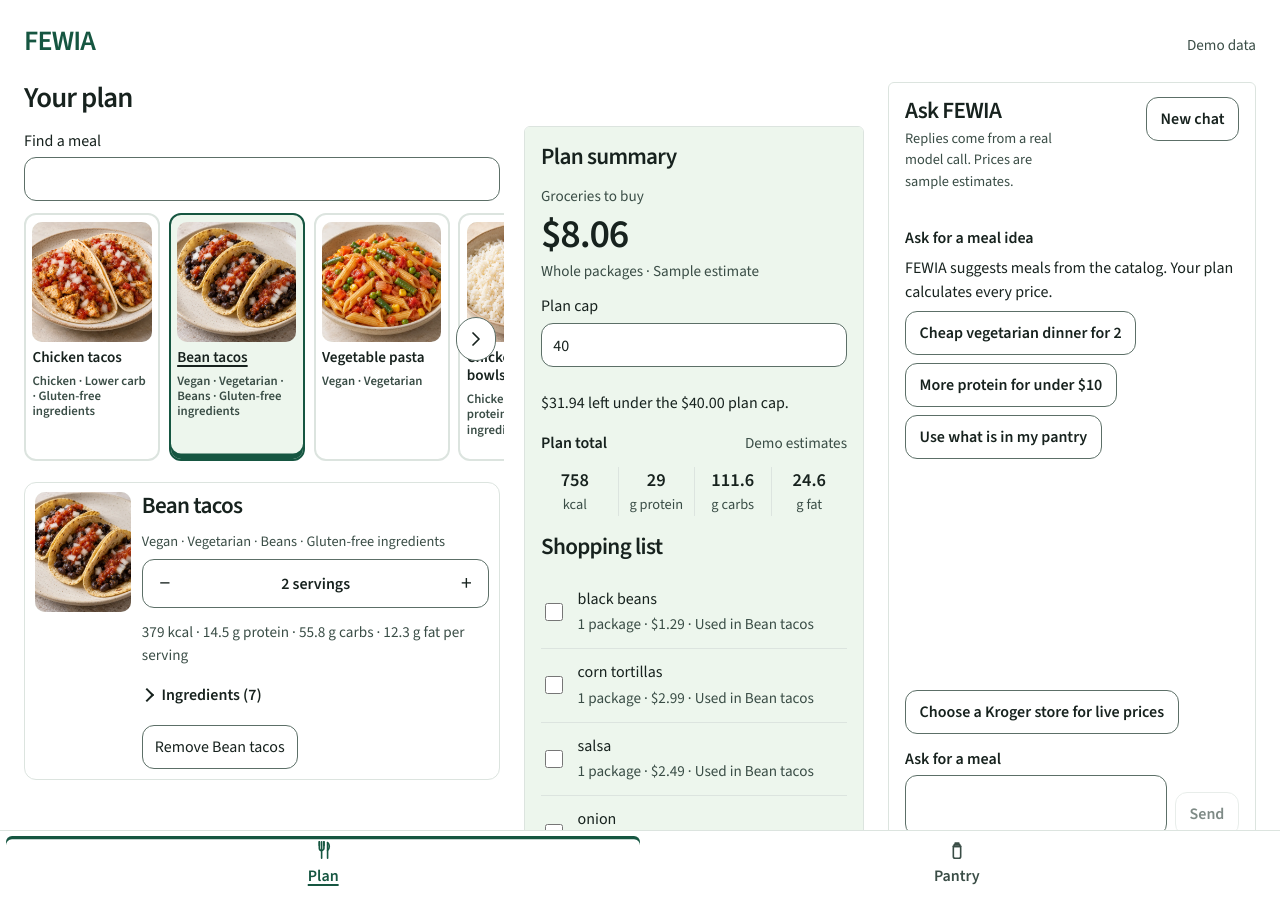
Test case: TonightPrototype › edits the plan cap without replacing the last valid budget
Replace the text in the field labelled "Plan cap" with "12.345". click: (694, 345)
box: [541,323,847,367]
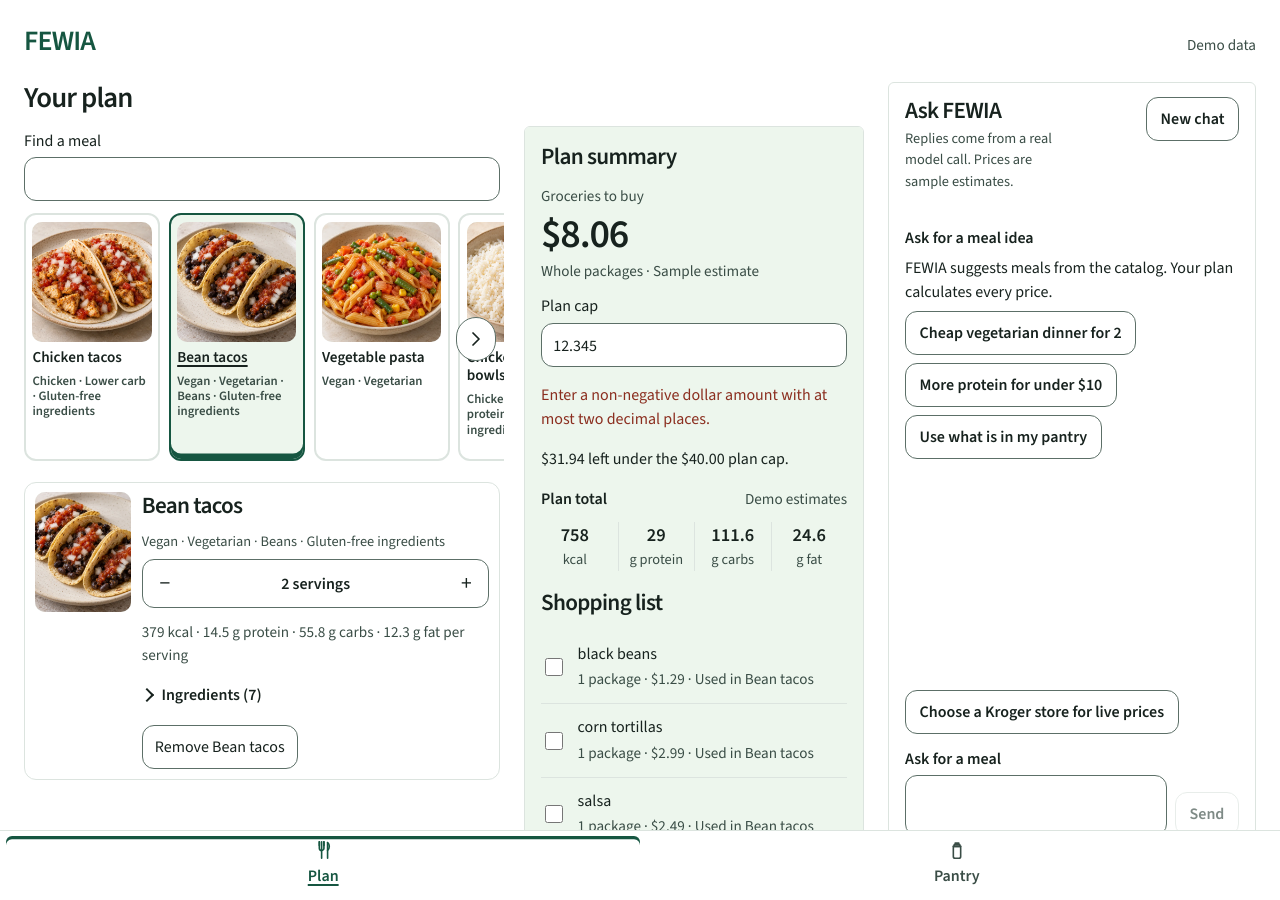
Expected: the element "Plan summary" shows "$31.94 left under the $40.00 plan cap.", [541,448,789,468]
Replace the text in the field labelled "Plan cap" with "0". click: (694, 345)
box: [541,323,847,367]
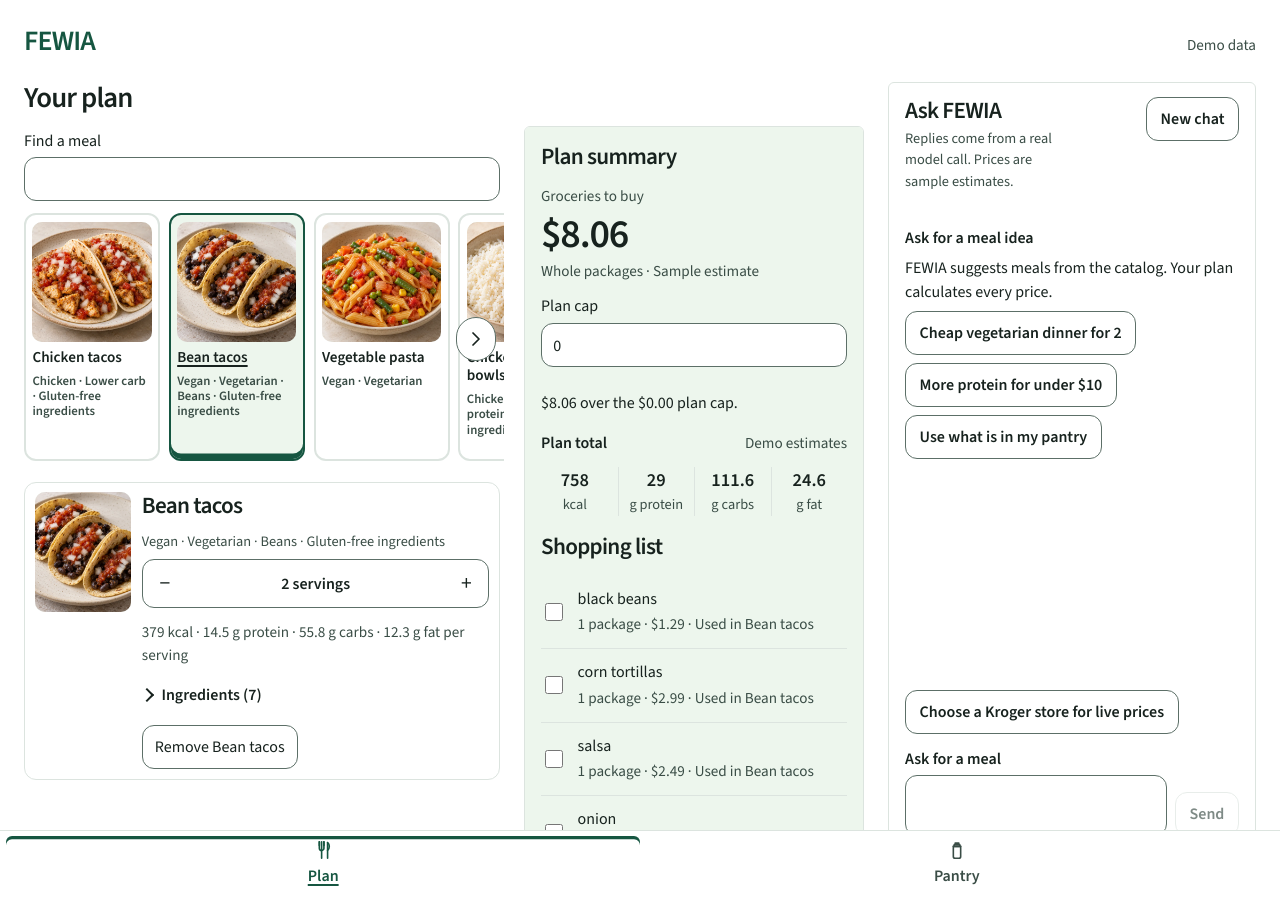
Expected: the element "Plan summary" shows "$8.06 over the $0.00 plan cap.", [541,392,738,413]
Replace the text in the field labelled "Plan cap" with "5". click: (694, 345)
box: [541,323,847,367]
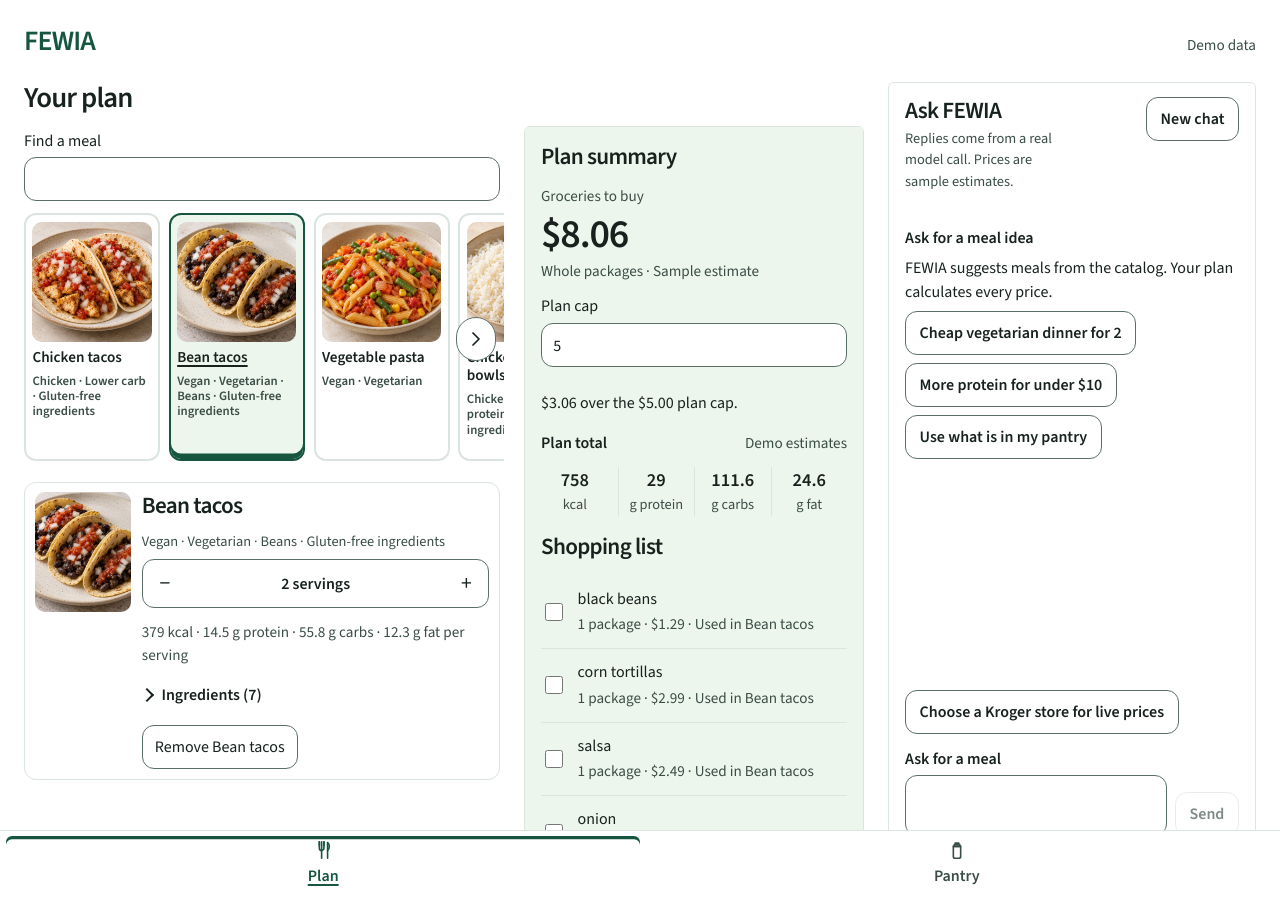
Expected: the element "Plan summary" shows "$3.06 over the $5.00 plan cap.", [541,392,738,413]
